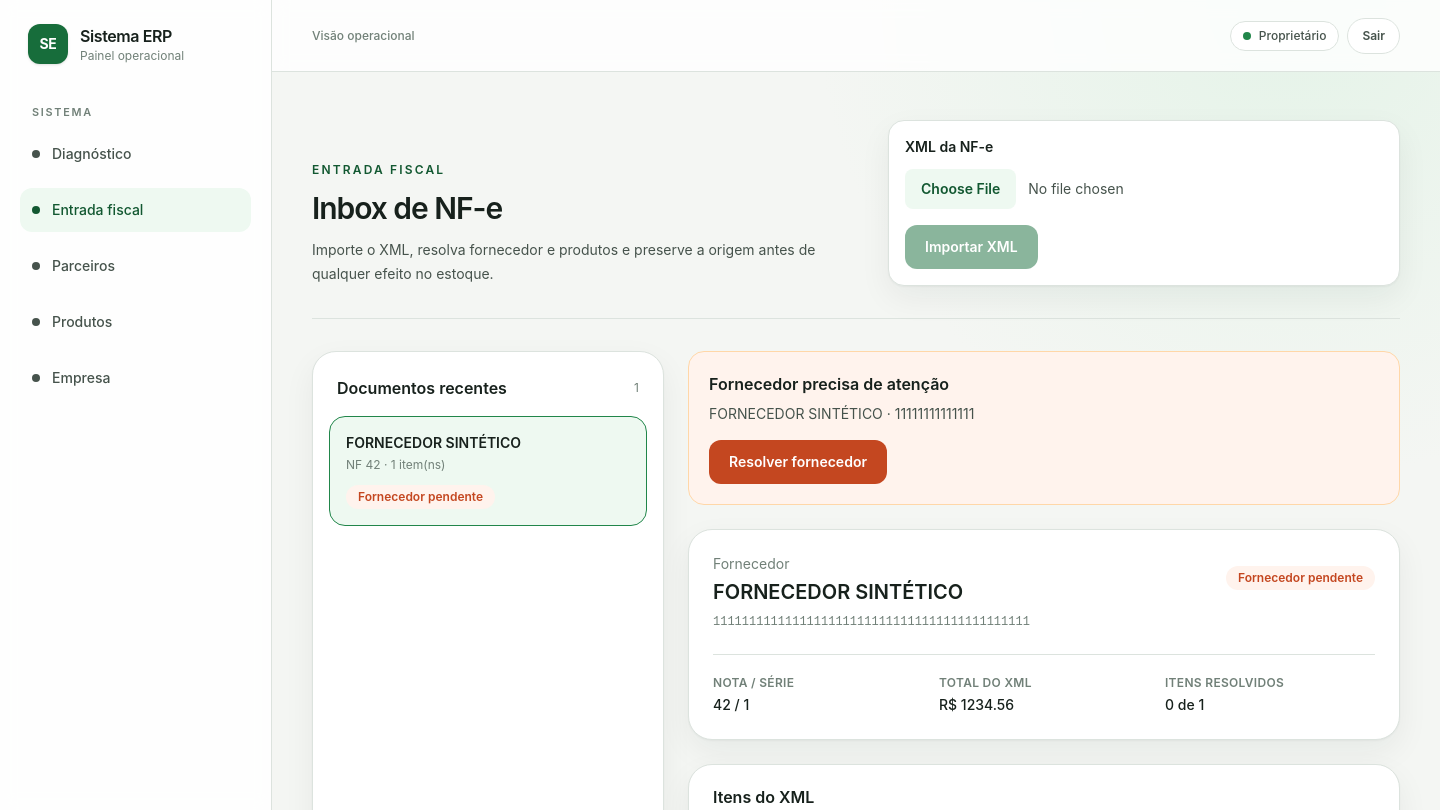
Scenario: inbox fiscal guiada › resolve fornecedor e mapping até deixar o documento pronto para revisão
The image size is (1440, 810).
Check: the heading "Inbox de NF-e" is shown, box [312,190,502,226]
Check: the text "Fornecedor precisa de atenção" is shown, box [709,374,949,394]
Click the button "Resolver fornecedor" at (798, 462), box [709,440,887,484]
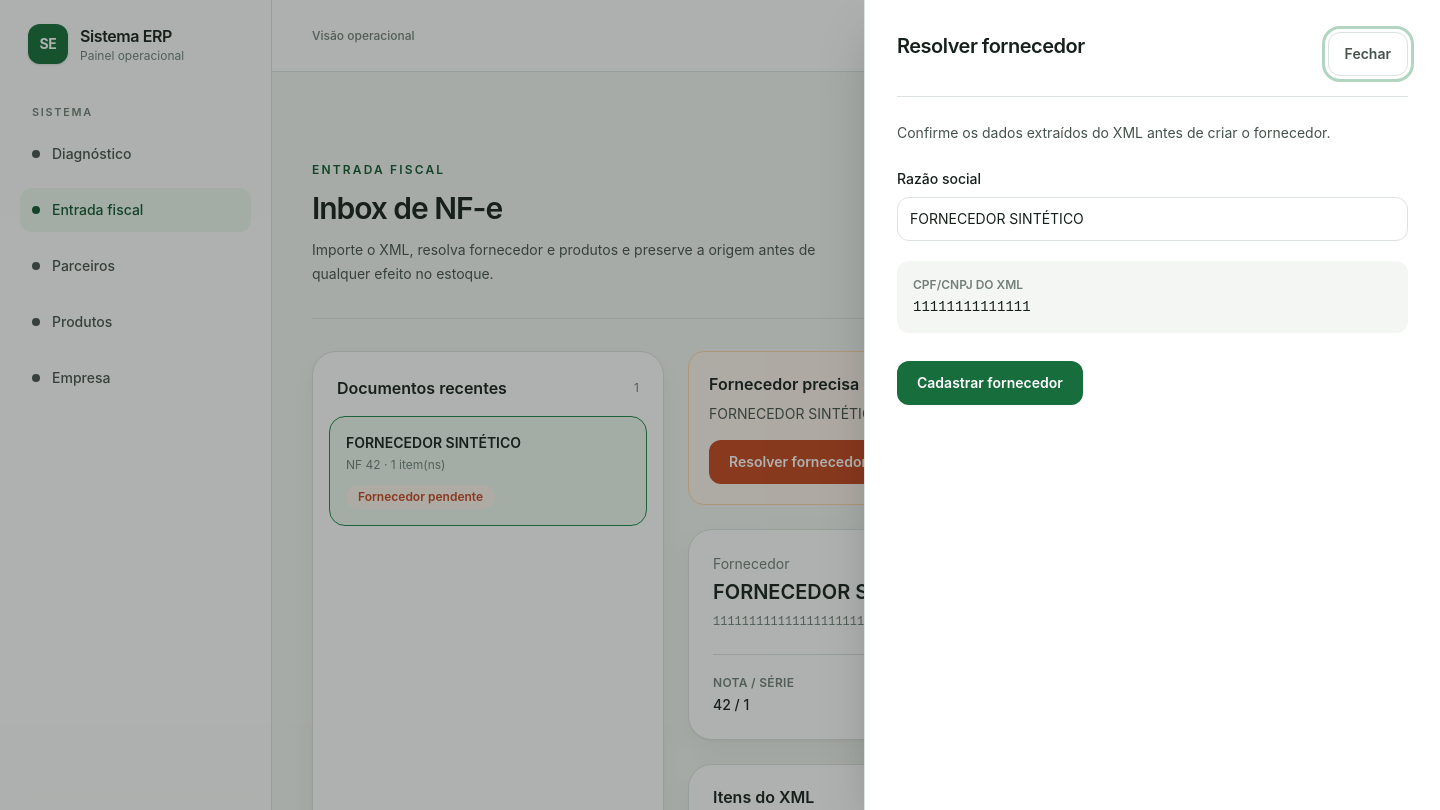
Check: the dialog "Resolver fornecedor" is shown, box [864,0,1439,809]
Click the button "Cadastrar fornecedor" at (990, 383), box [897,361,1083,405]
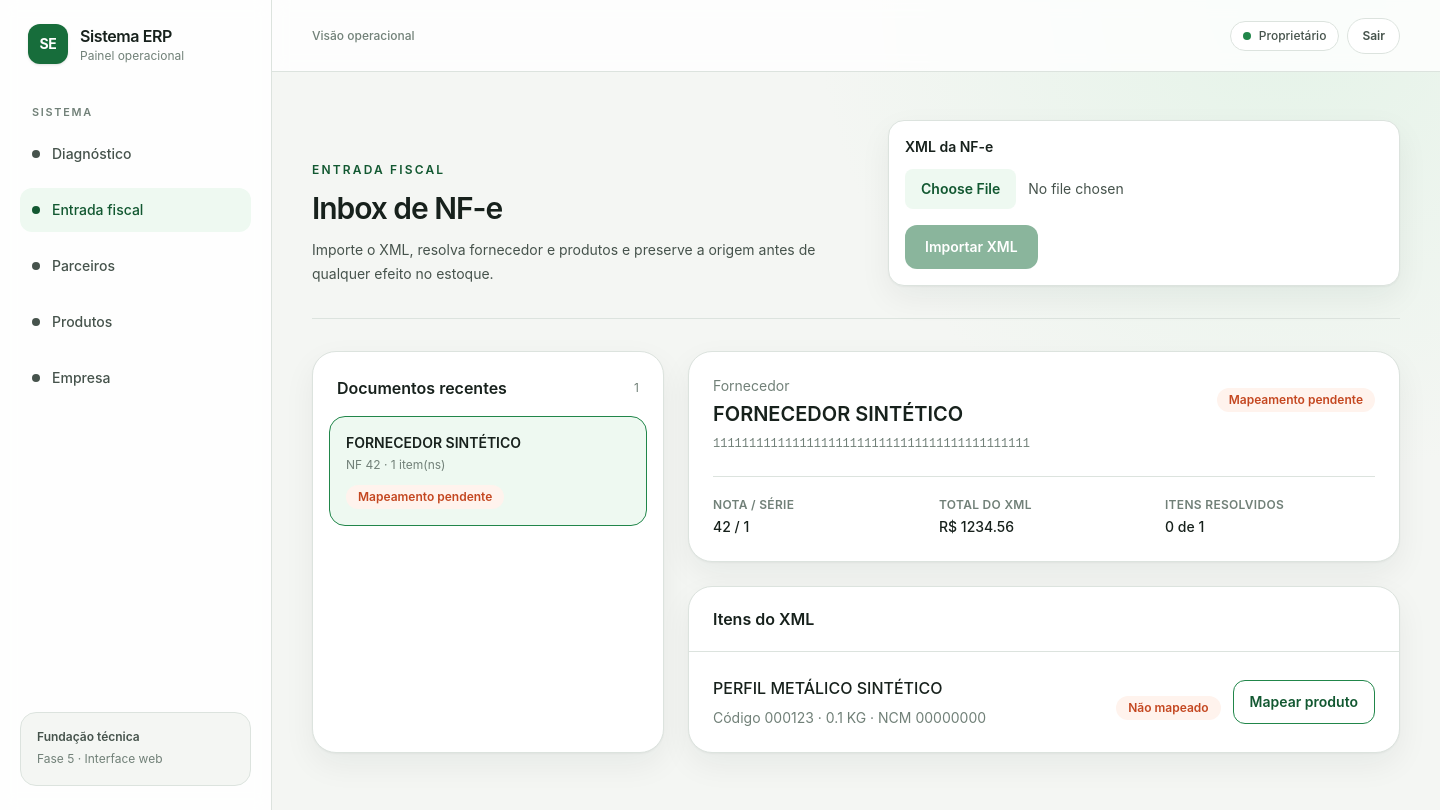
Check: the button "Mapear produto" is shown
Click the button "Mapear produto" at (1304, 702), box [1233,680,1375,724]
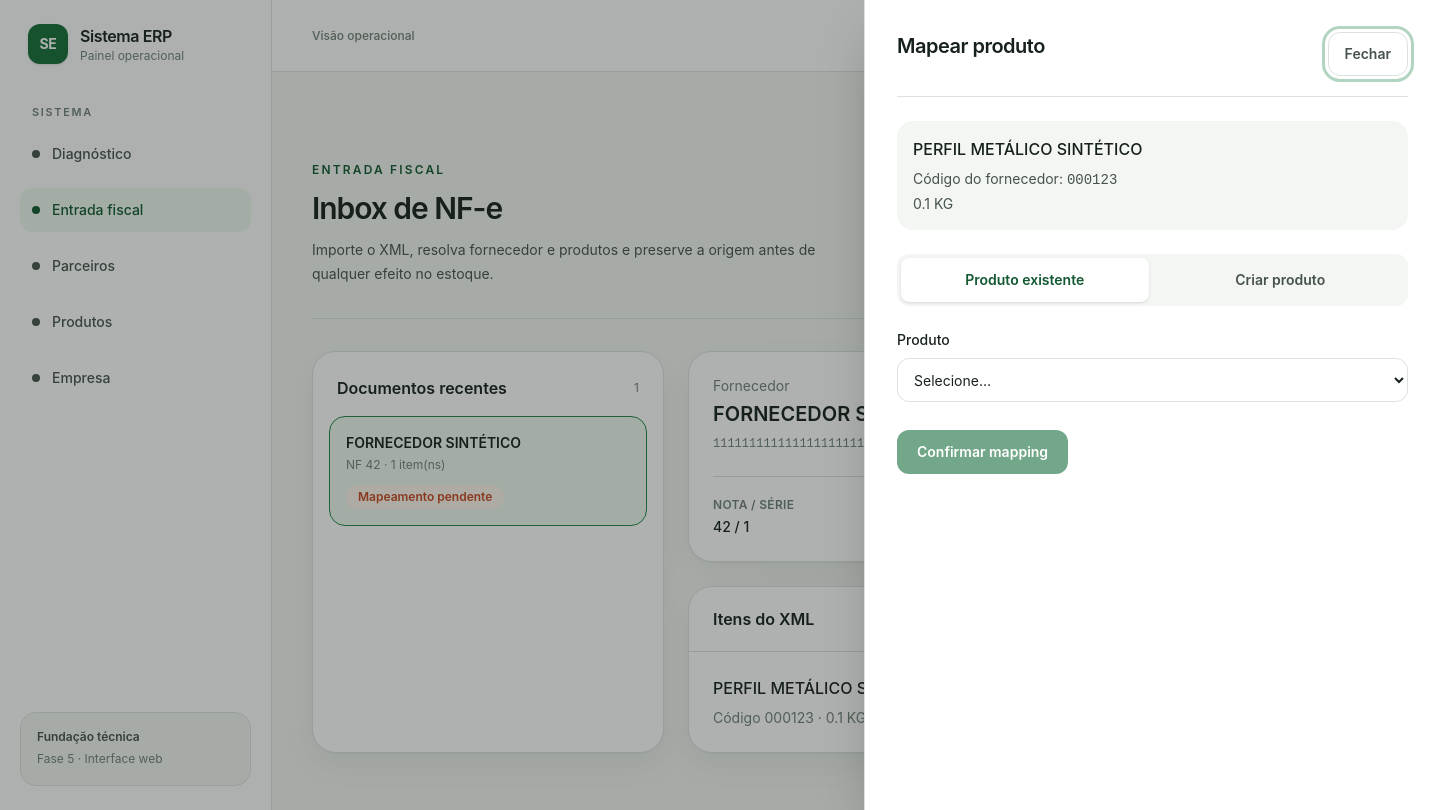
Select "SKU-001 · Perfil metálico" in the dropdown labelled "Produto" at (1152, 380), box [897,358,1408,402]
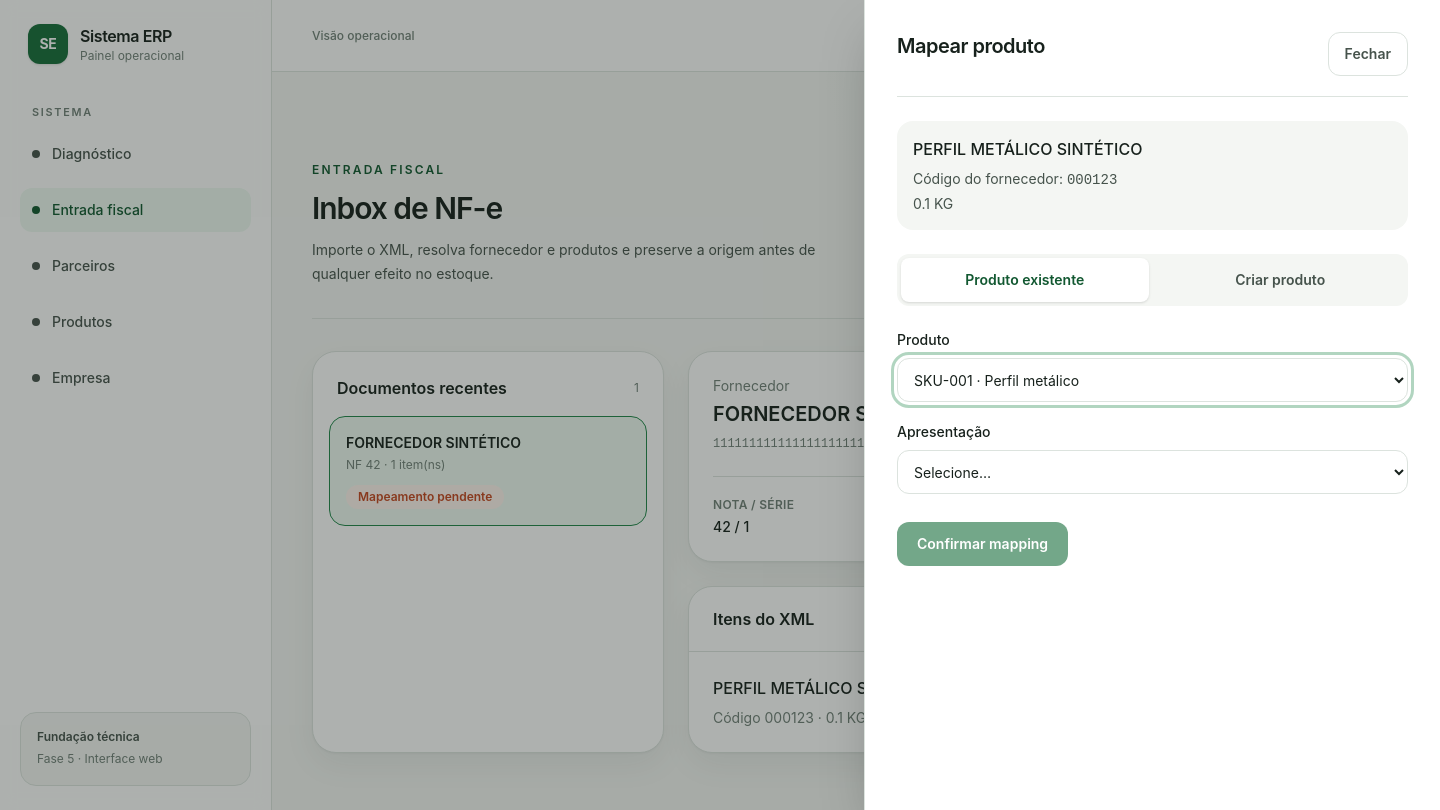
Select "Apresentação base · KG" in the dropdown labelled "Apresentação" at (1152, 472), box [897,450,1408,494]
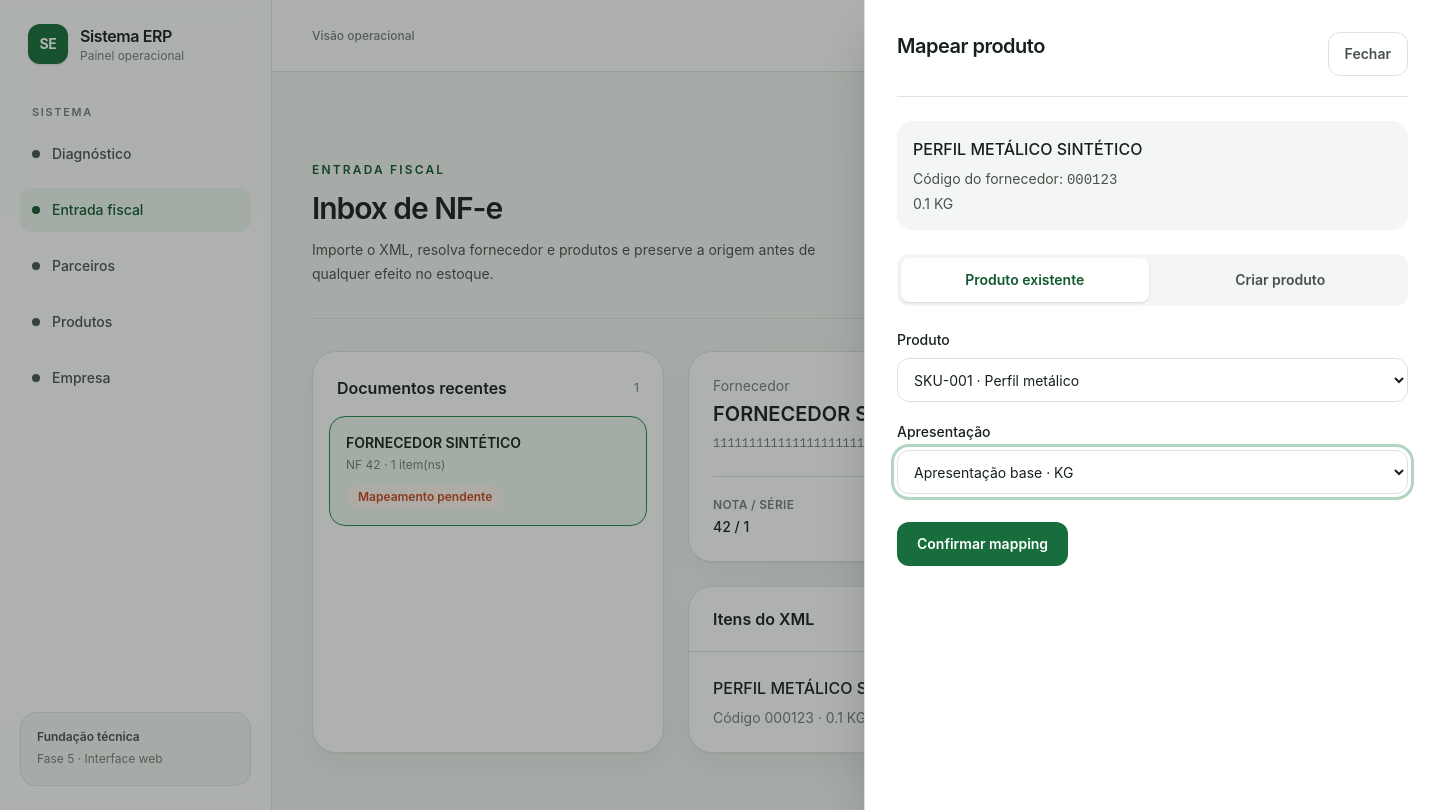
Click the button "Confirmar mapping" at (983, 544), box [897,522,1068,566]
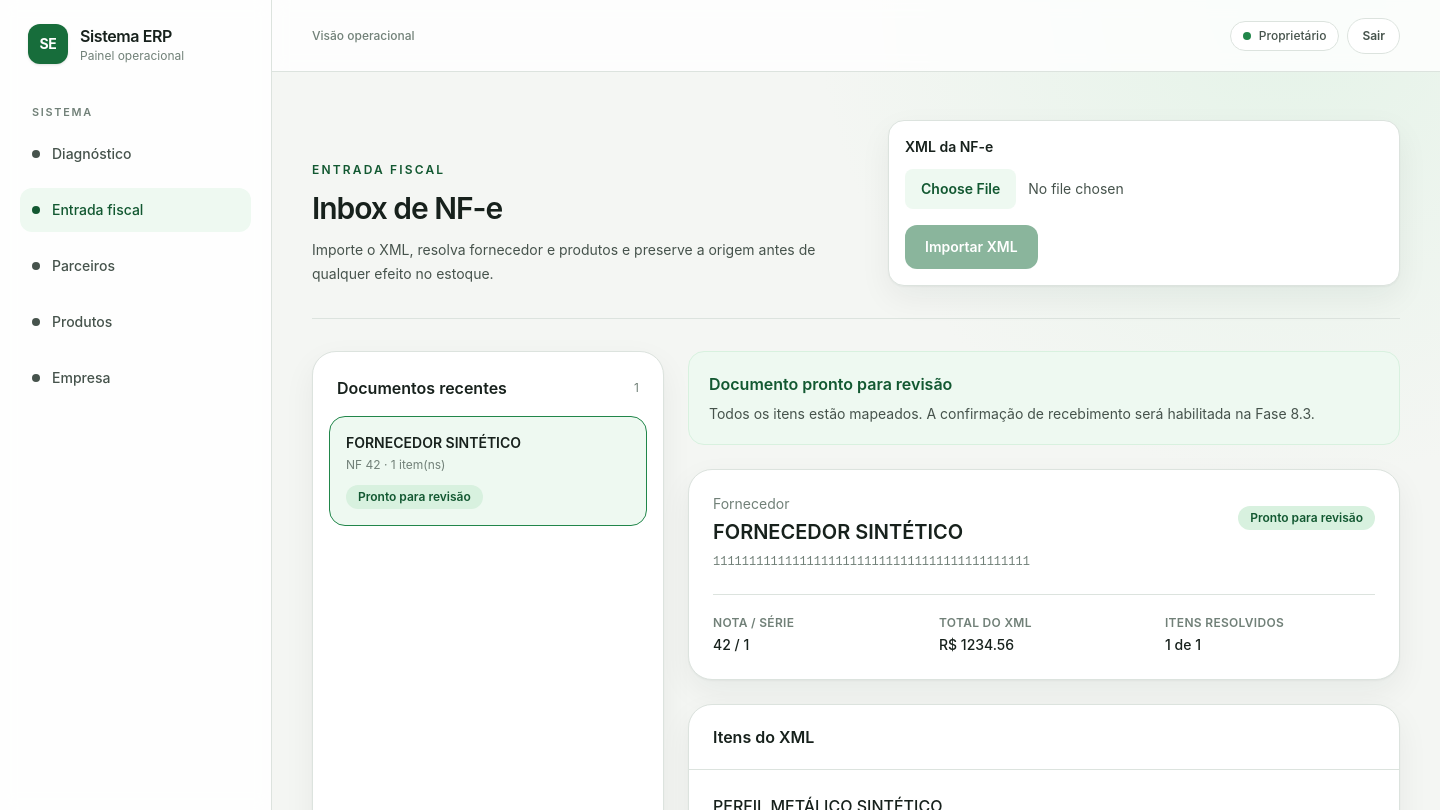
Check: the text "Documento pronto para revisão" is shown, box [709,374,952,394]
Check: the text "recebimento será habilitada na Fase 8.3" is shown, box [709,405,1315,422]
